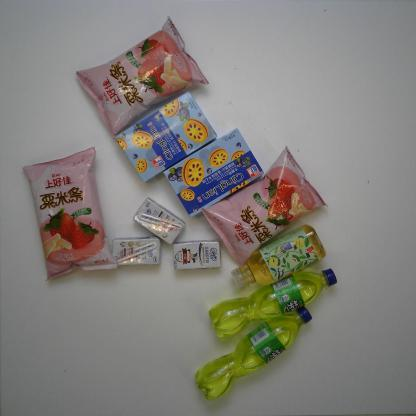Dessert: (163, 126, 266, 218), (113, 92, 217, 182)
Drink: (194, 306, 312, 399), (208, 270, 337, 340), (230, 225, 326, 290)
Milk: (132, 198, 184, 244), (173, 238, 222, 271), (112, 235, 162, 266)
Puffed Food: (74, 17, 209, 140), (202, 144, 330, 271), (22, 147, 120, 281)
